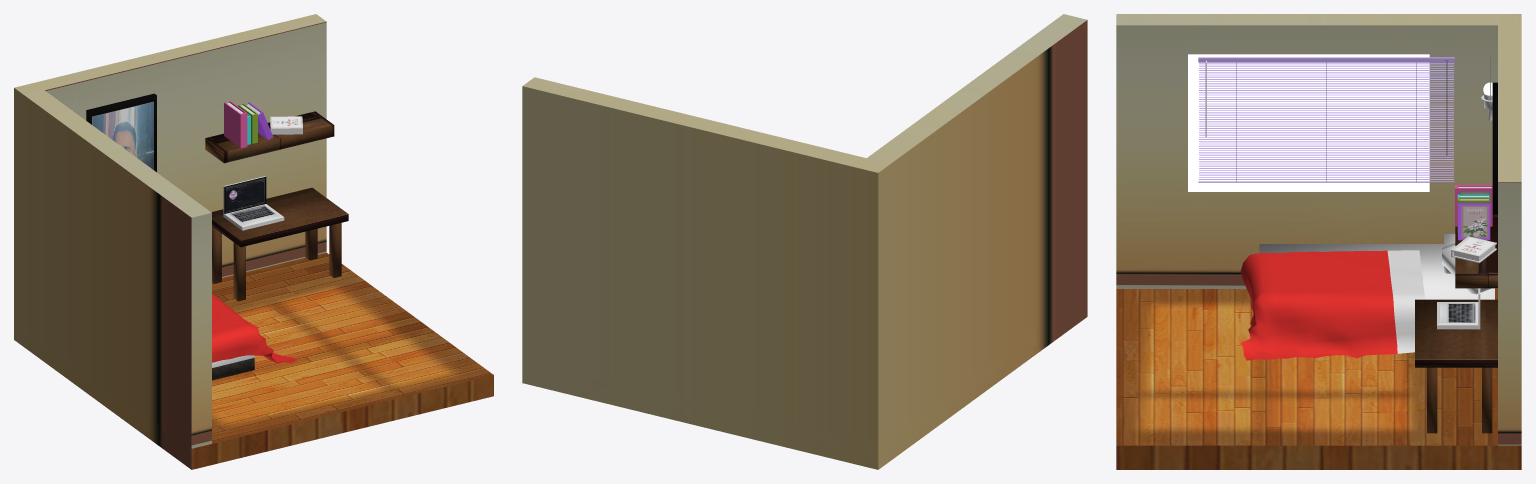
3 renders of one model, left to right at view 1: azimuth 30°, elevation 25°; view 2: azimuth 150°, elevation 25°; view 3: azimuth 270°, elevation 25°, orthographic. The views are drawn at different scales.
Parts seen in each view (by area): view 1: Room, Table, Cube.007, Plane, Cube.001, Cube.004, Plane.001, Book, Cube, Book.004; view 2: Room; view 3: Room, Venetian_slats, Plane, Table, Cube, Cube.001, VenetianFrame, Cube.004, Book.003, Book.004, Cube.007, Book (+2 smaller).
Boxes of the visible parts, left/top/right/bottom form: Room: left=14, top=14, right=493, bottom=469; Table: left=211, top=187, right=348, bottom=301; Cube.007: left=86, top=93, right=156, bottom=172; Plane: left=212, top=294, right=297, bottom=363; Cube.001: left=205, top=111, right=334, bottom=163; Cube.004: left=223, top=176, right=284, bottom=230; Plane.001: left=225, top=177, right=264, bottom=212; Book: left=224, top=101, right=247, bottom=148; Cube: left=212, top=355, right=254, bottom=380; Book.004: left=270, top=116, right=302, bottom=134; Room: left=522, top=14, right=1087, bottom=469; Room: left=1116, top=14, right=1521, bottom=469; Venetian_slats: left=1199, top=63, right=1453, bottom=179; Plane: left=1240, top=250, right=1425, bottom=360; Table: left=1415, top=299, right=1497, bottom=433; Cube: left=1259, top=244, right=1494, bottom=299; Cube.001: left=1455, top=214, right=1497, bottom=288; VenetianFrame: left=1198, top=57, right=1454, bottom=62; Cube.004: left=1437, top=288, right=1480, bottom=329; Book.003: left=1458, top=203, right=1490, bottom=240; Book.004: left=1451, top=236, right=1496, bottom=263; Cube.007: left=1492, top=82, right=1497, bottom=213; Book: left=1455, top=185, right=1492, bottom=226.
Size of the model in its own units: 42.34 by 34.47 by 43.11.
Materials: 30 (10 with a texture image).
